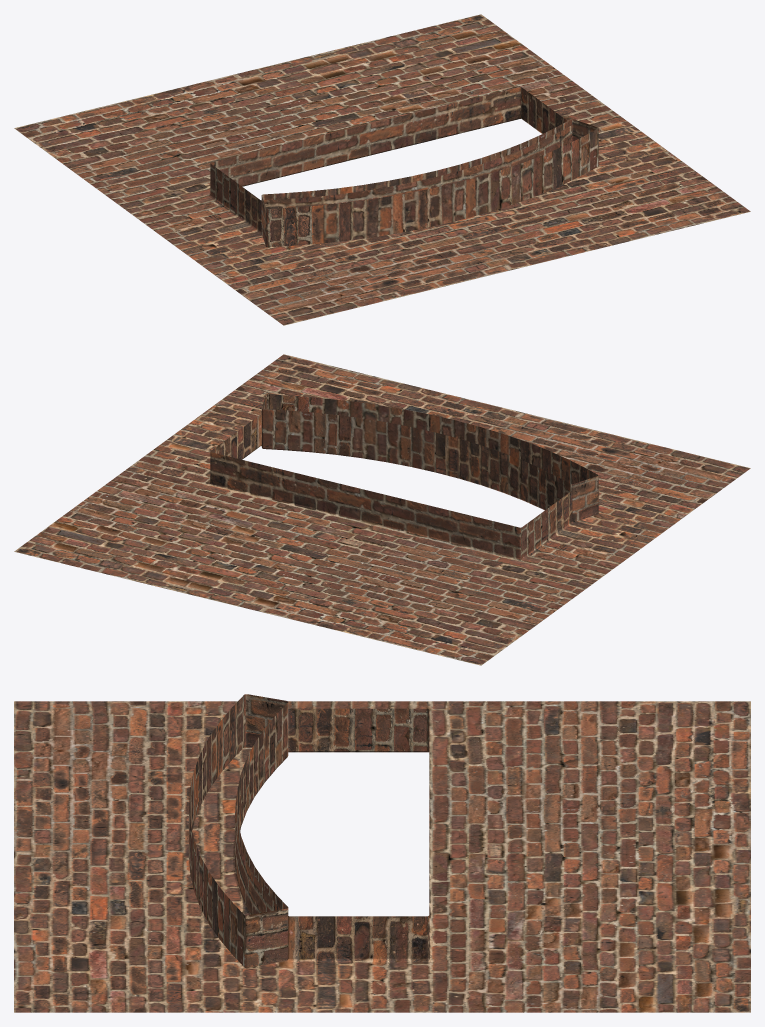
File: wall_window_centered_large_04.gltf
3 renders of one model, top to bottom at view 1: azimuth 30°, elevation 25°; view 2: azimuth 150°, elevation 25°; view 3: azimuth 270°, elevation 25°, orthographic. The views are drawn at different scales.
Visible parts, largest first — view 1: wall_window_centered_large_04; view 2: wall_window_centered_large_04; view 3: wall_window_centered_large_04.
Part boxes in pixels (bbox=[...]): wall_window_centered_large_04: bbox=[14, 14, 750, 325]; wall_window_centered_large_04: bbox=[14, 354, 750, 665]; wall_window_centered_large_04: bbox=[14, 694, 750, 1012].
Bounding box in the file's own units: 3 × 0.25 × 3.
1 material, 1 textured.
